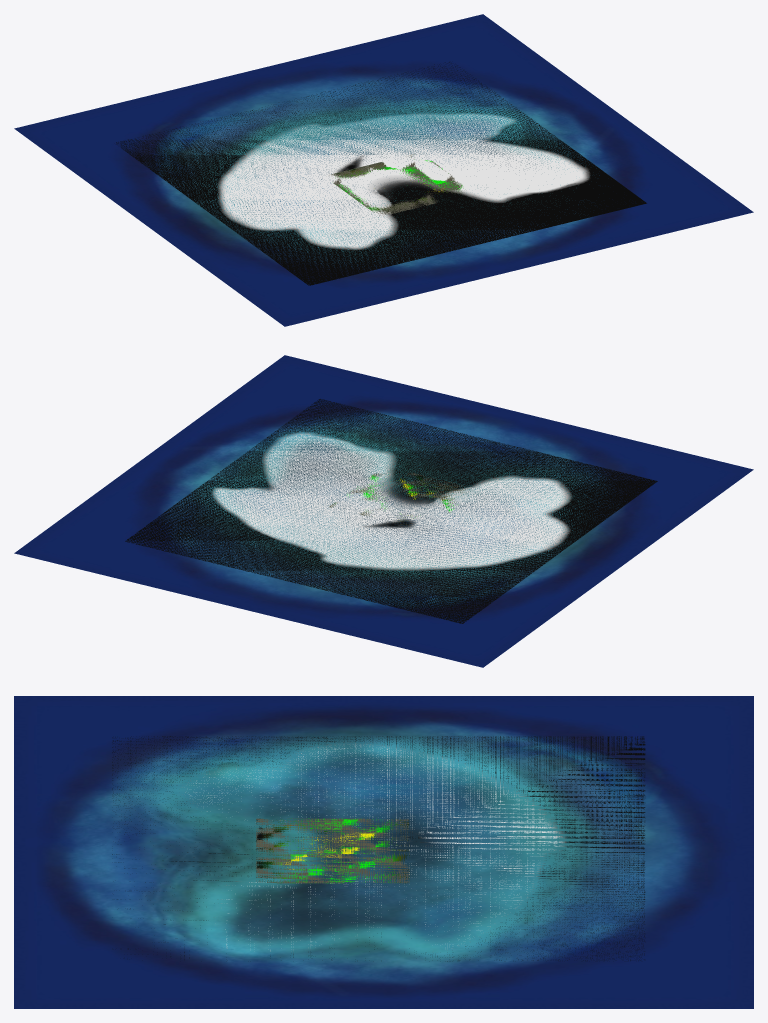
Rendered from pir_m_are_isl_cuba_ocean.fbx.
The picture shows the model from 3 angles, top to bottom: view 1: azimuth 30°, elevation 25°; view 2: azimuth 150°, elevation 25°; view 3: azimuth 270°, elevation 25°; orthographic projection. The views are drawn at different scales.
Visible parts, largest first — view 1: water_color, water_alpha, water_swamp_ns, water_alpha_swamp; view 2: water_color, water_alpha, water_swamp_ns; view 3: water_color, water_alpha, water_swamp_ns, water_alpha_swamp.
Part boxes in pixels (left/top/right/bottom): water_color: left=14, top=14, right=753, bottom=326; water_alpha: left=116, top=62, right=646, bottom=285; water_swamp_ns: left=329, top=154, right=462, bottom=214; water_alpha_swamp: left=334, top=159, right=462, bottom=215; water_color: left=14, top=355, right=753, bottom=667; water_alpha: left=125, top=399, right=657, bottom=623; water_swamp_ns: left=329, top=469, right=468, bottom=525; water_color: left=14, top=696, right=753, bottom=1008; water_alpha: left=112, top=736, right=645, bottom=961; water_swamp_ns: left=256, top=818, right=409, bottom=883; water_alpha_swamp: left=256, top=818, right=409, bottom=883.
Size of the model in its own units: 555752 by 6600 by 555751.
5 materials, 5 textured.
